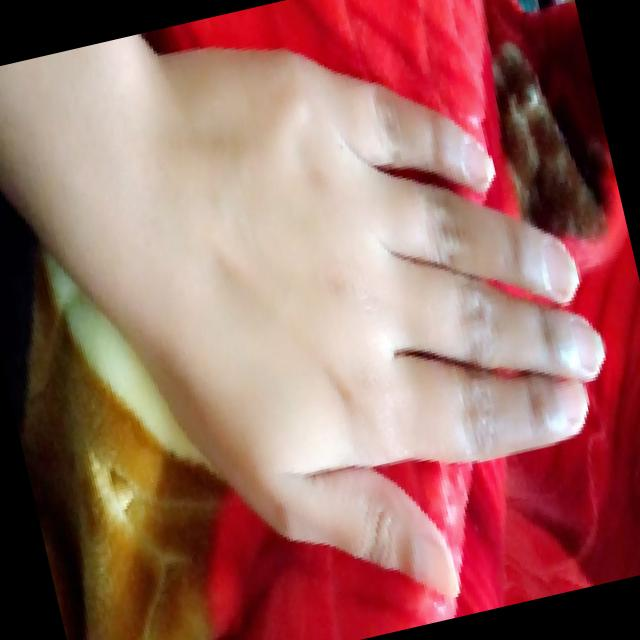Nail: (410, 541, 458, 598), (572, 325, 604, 373), (460, 141, 494, 186), (546, 249, 577, 297), (556, 379, 587, 421)
